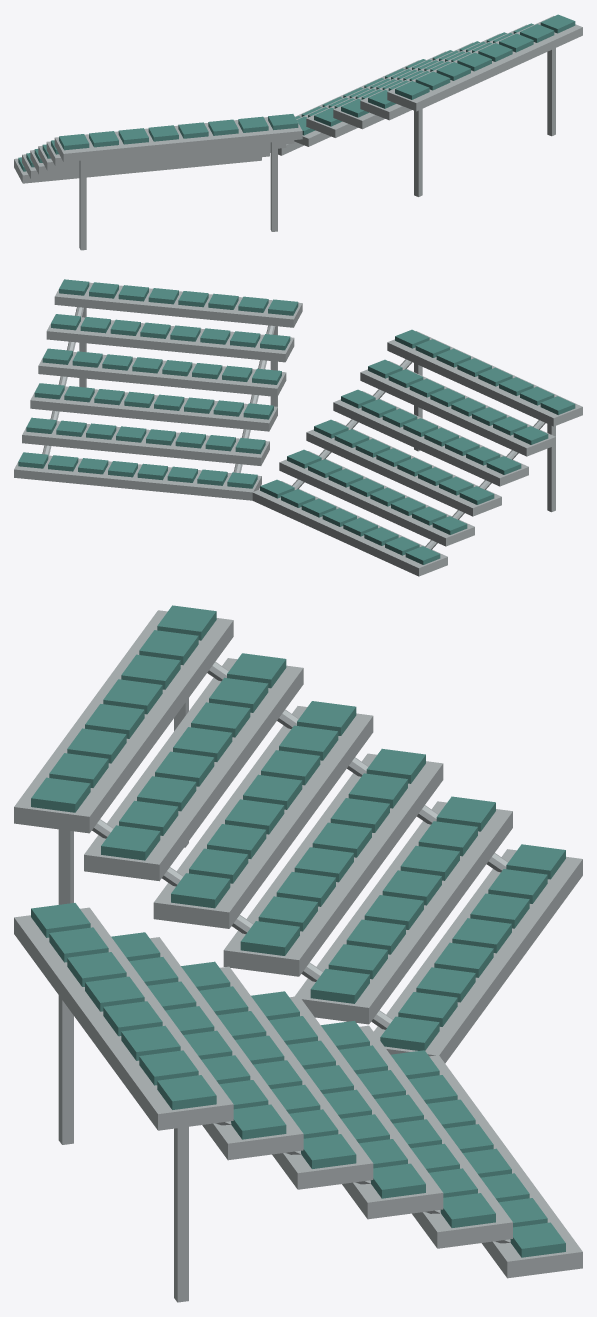
The model's file is grand-prix-circuit-and-open-wheel-grandstand-corner-9e6dfa28__15243.glb.
3 views of the same model, one above another, from view 1: azimuth 30°, elevation 25°; view 2: azimuth 150°, elevation 25°; view 3: azimuth 270°, elevation 25° (orthographic). The views are drawn at different scales.
Parts seen in each view (by area): view 1: grandstand-corner; view 2: grandstand-corner; view 3: grandstand-corner.
Part boxes in pixels (x1,y1,x2,y2): grandstand-corner: (14,14,582,250); grandstand-corner: (14,279,582,576); grandstand-corner: (14,605,582,1302).
Size of the model in its own units: 9.79 by 1.99 by 4.67.
